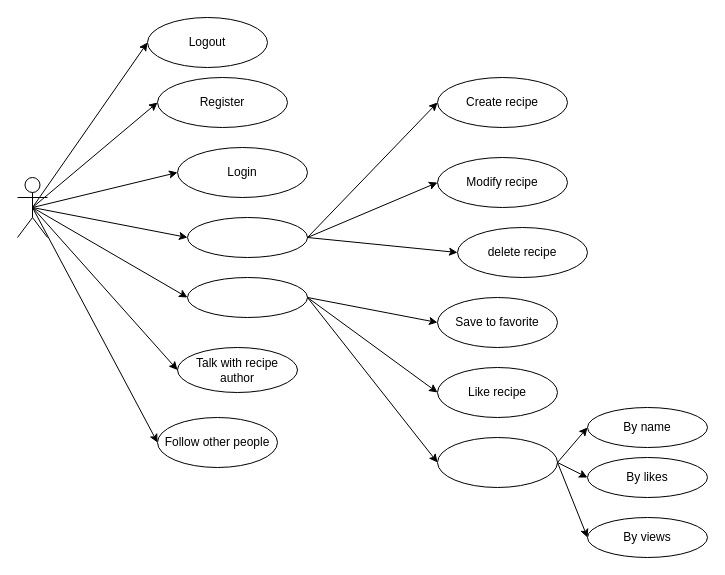
The diagram is 725 pixels wide and 575 high, and some of its shapes have lost their labels. The box of each missing label's shape, as (x1, y1, x2, y2) in pixels:
Search for recipe: (436, 436, 558, 488)
User: (16, 176, 48, 238)
with his recipe: (186, 216, 308, 258)
with others recipe: (186, 276, 308, 318)
